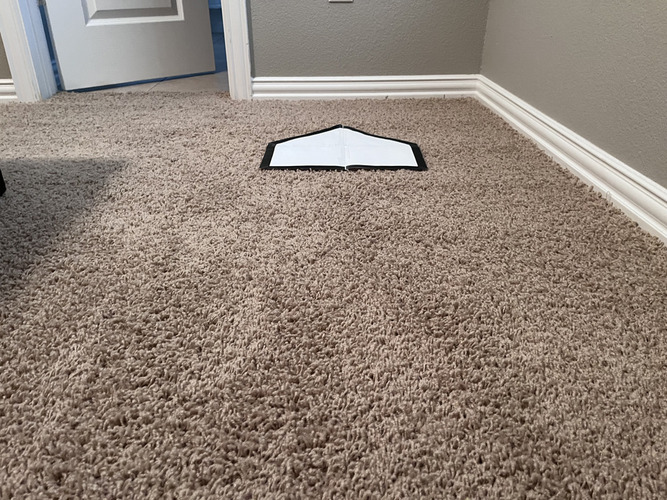homeplate: (257, 124, 427, 171)
